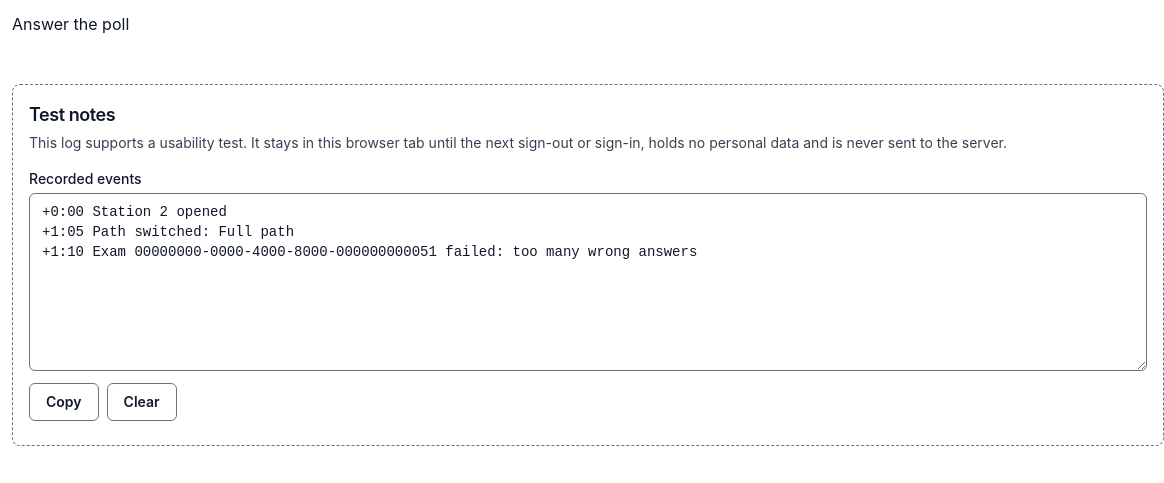
Test: TestNotesPanel › a failed copy says how to copy by hand
Click the button "Copy".
click(64, 402)  # box [29,383,99,421]
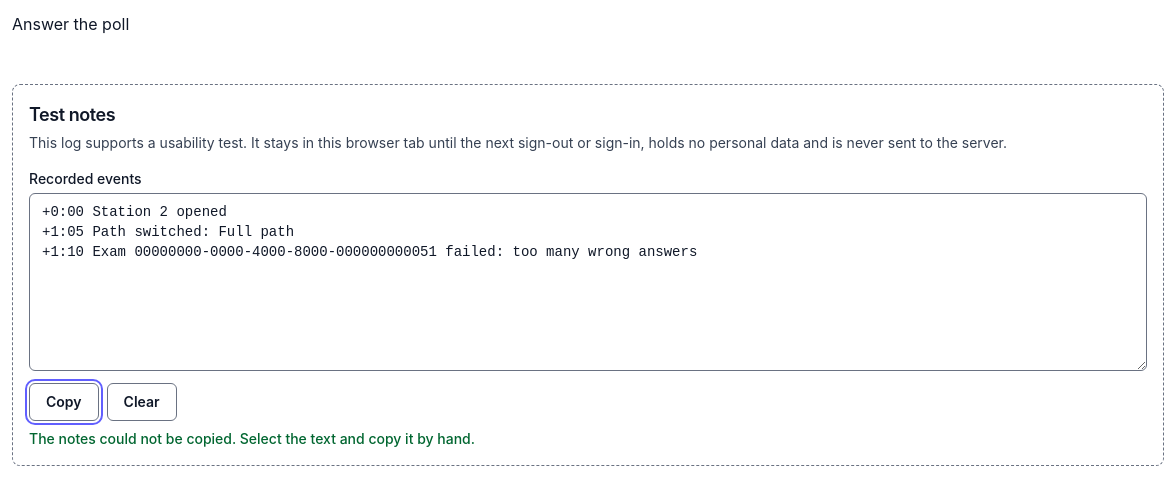
Expected: the message reads "The notes could not be copied. Select the text and copy it by hand.", [29,430,475,447]
